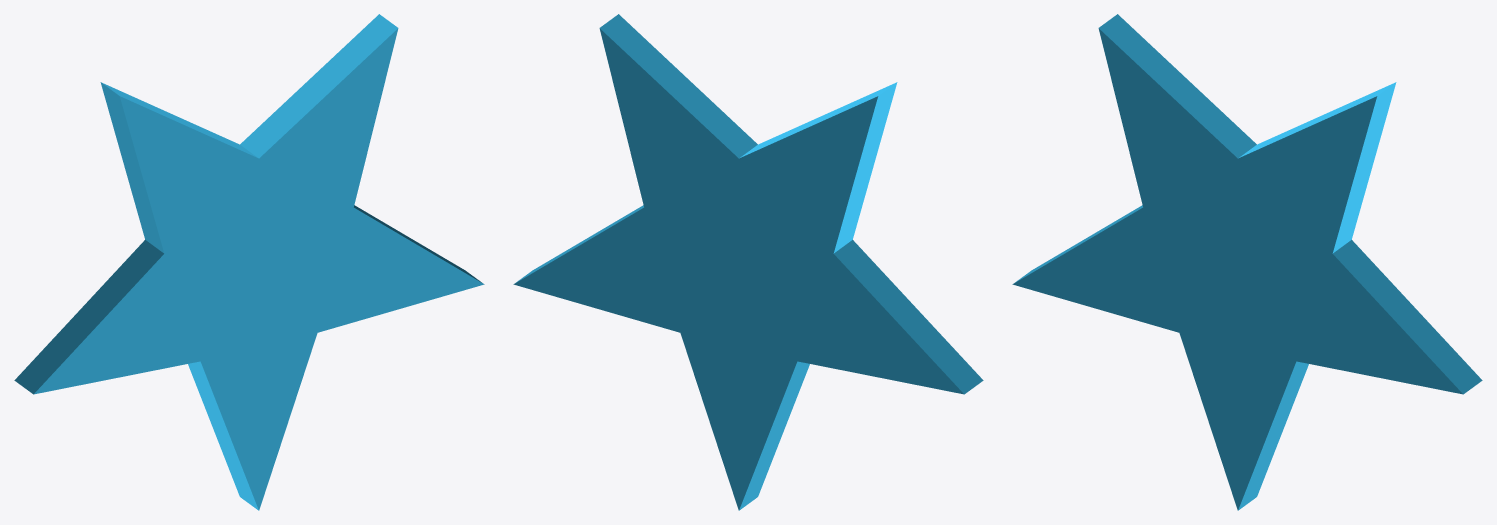
Rendered from badge_dory.glb.
3 renders of one model, left to right at view 1: azimuth 30°, elevation 25°; view 2: azimuth 150°, elevation 25°; view 3: azimuth 330°, elevation 25°, orthographic.
Visible parts, largest first — view 1: badge; view 2: badge; view 3: badge.
Boxes of the visible parts, x1,y1,x2,y2 form: badge: [14, 14, 484, 510]; badge: [513, 14, 983, 510]; badge: [1012, 14, 1482, 510].
Size of the model in its own units: 1.9 by 1.81 by 0.14.
